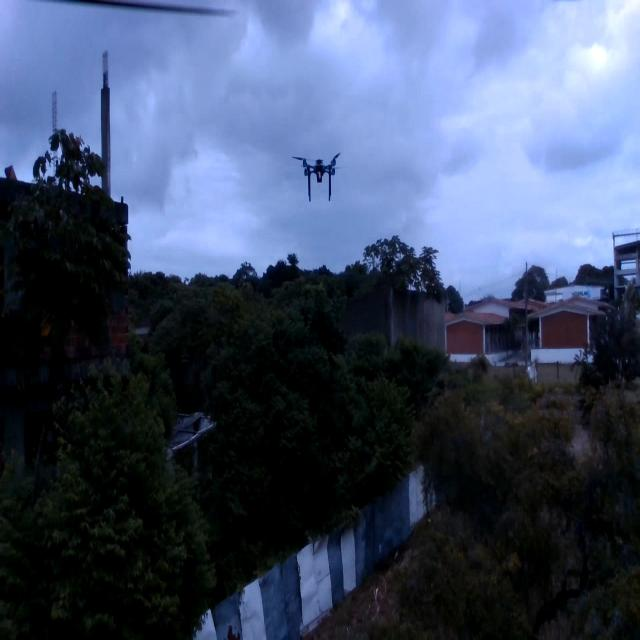-uav-: (291, 134, 348, 210)
